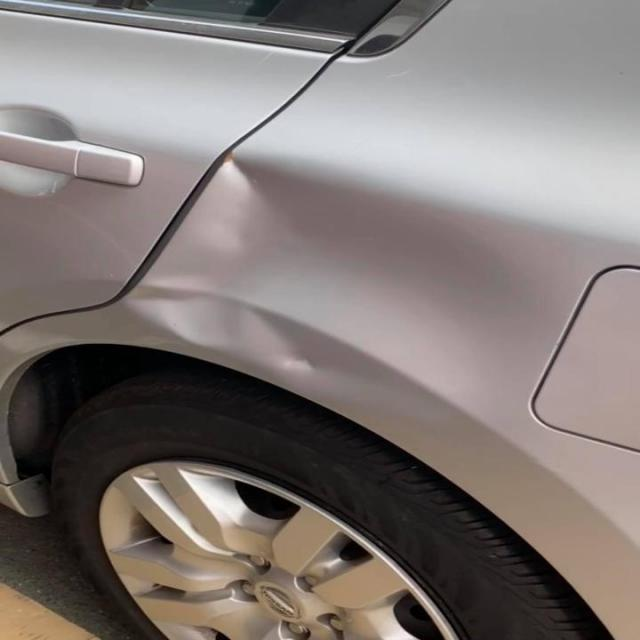dent: (119, 161, 527, 410)
